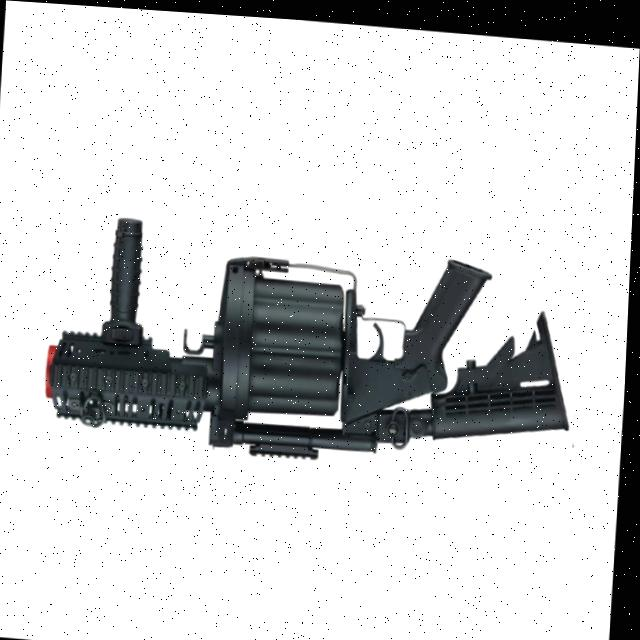rocket: (45, 210, 583, 474)
